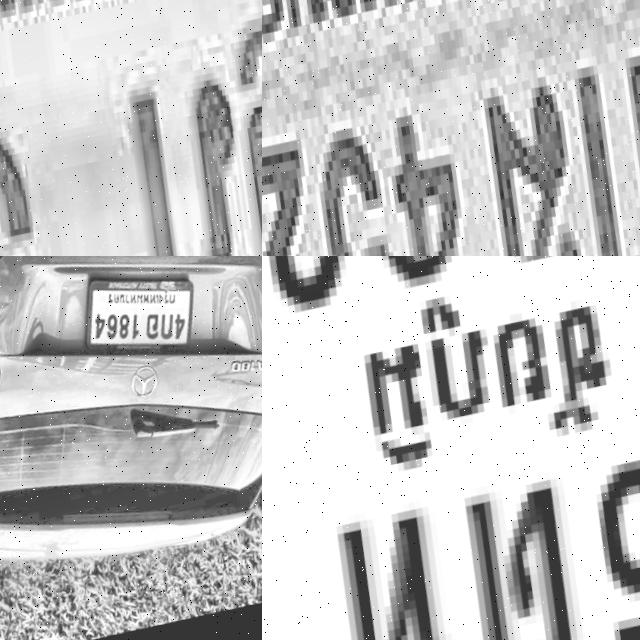license-plate: (262, 256, 640, 640), (262, 0, 640, 256), (0, 0, 262, 256), (68, 256, 210, 379)
